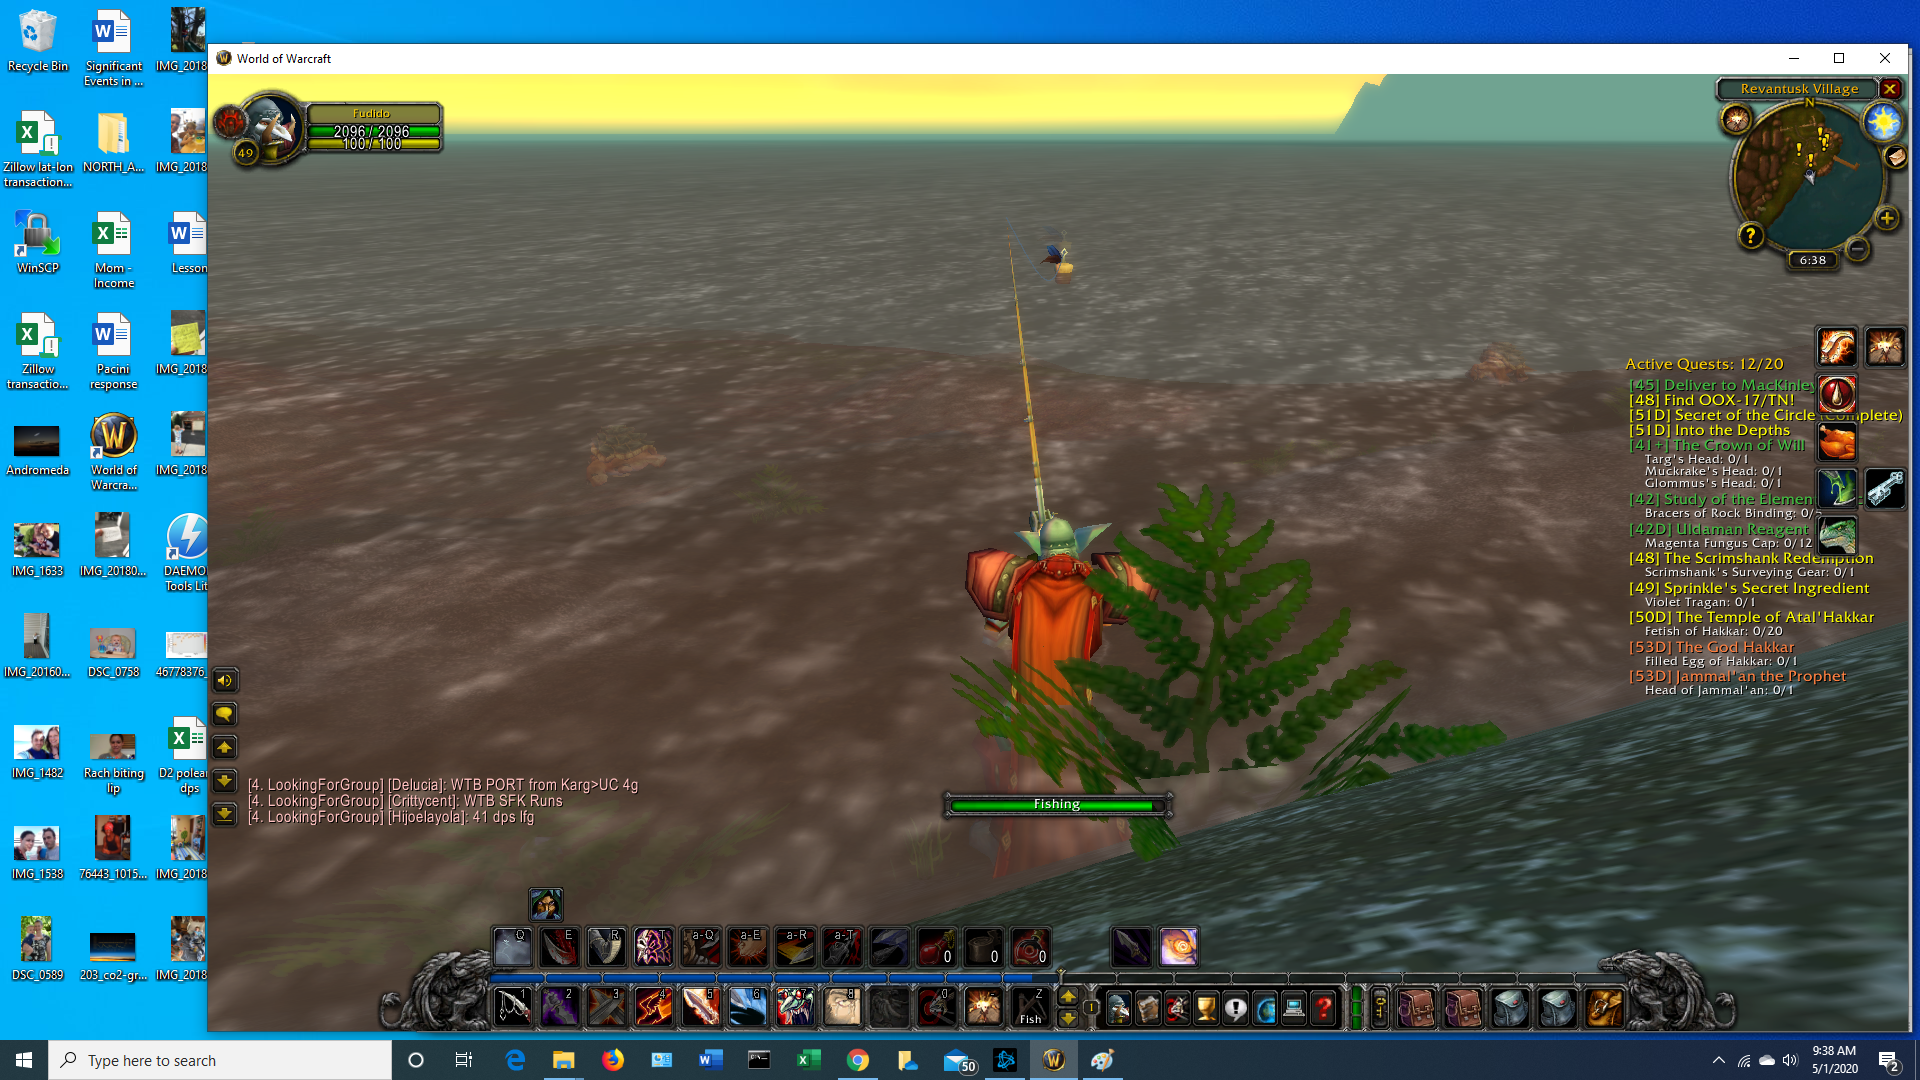bobble: (1044, 237, 1080, 280)
